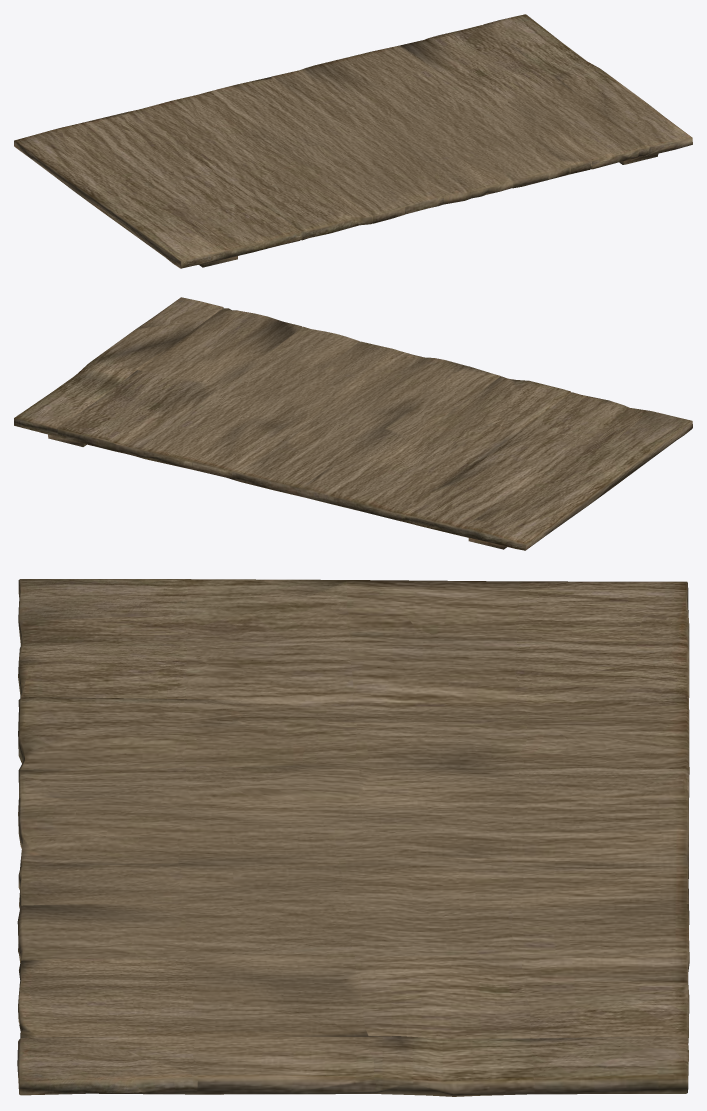
The model's file is Saloon_Floor.glb.
3 renders of one model, top to bottom at view 1: azimuth 30°, elevation 25°; view 2: azimuth 150°, elevation 25°; view 3: azimuth 270°, elevation 25°, orthographic. The views are drawn at different scales.
Visible parts, largest first — view 1: tripo_node_b95c76ad-7334-433b-b279-73b0e11842de; view 2: tripo_node_b95c76ad-7334-433b-b279-73b0e11842de; view 3: tripo_node_b95c76ad-7334-433b-b279-73b0e11842de.
Boxes of the visible parts, x1,y1,x2,y2 form: tripo_node_b95c76ad-7334-433b-b279-73b0e11842de: (14, 14, 692, 268); tripo_node_b95c76ad-7334-433b-b279-73b0e11842de: (14, 297, 692, 550); tripo_node_b95c76ad-7334-433b-b279-73b0e11842de: (17, 579, 689, 1096).
Size of the model in its own units: 0.9792 by 0.0359 by 0.5553.
Materials: 1 (1 with a texture image).
